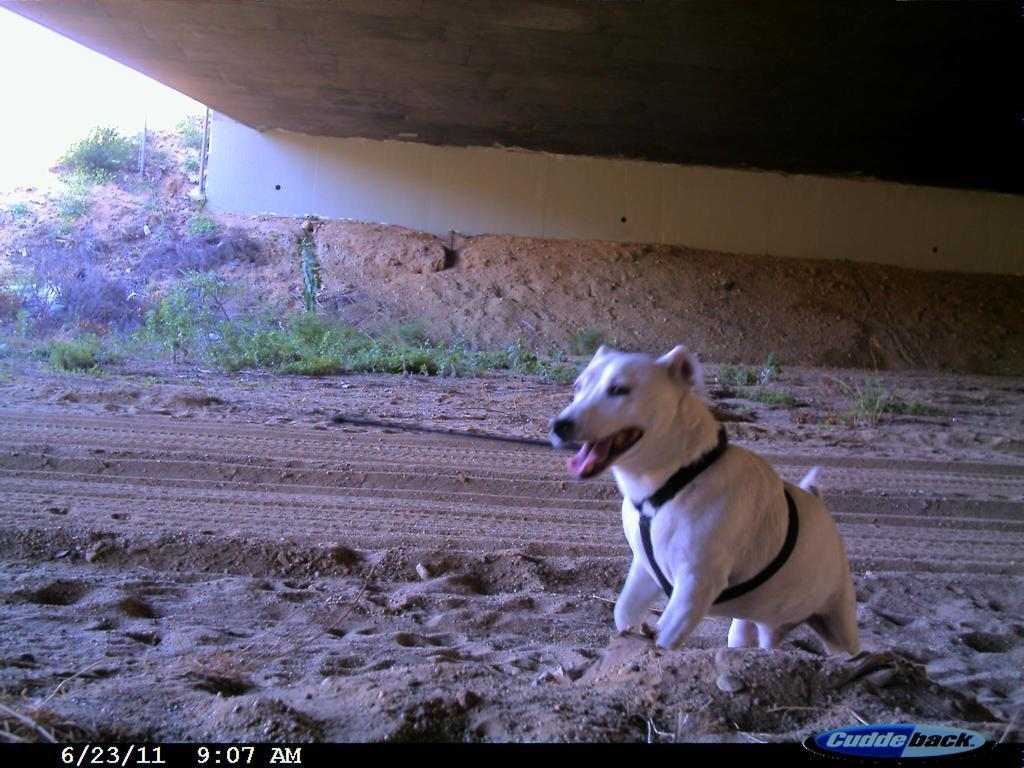dog: (525, 328, 888, 670)
